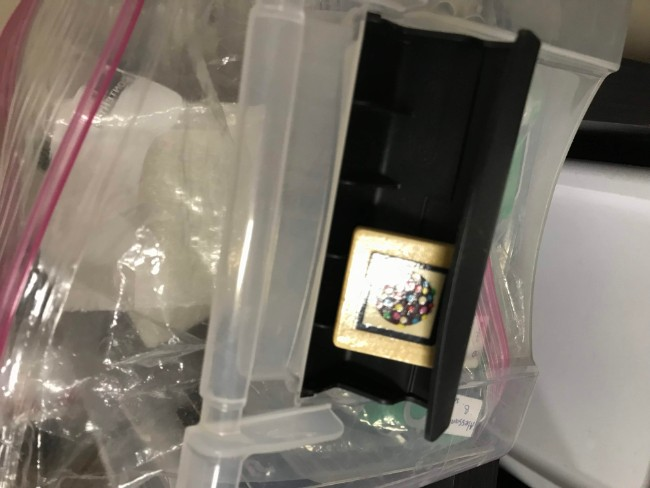cookie: (342, 226, 446, 363)
